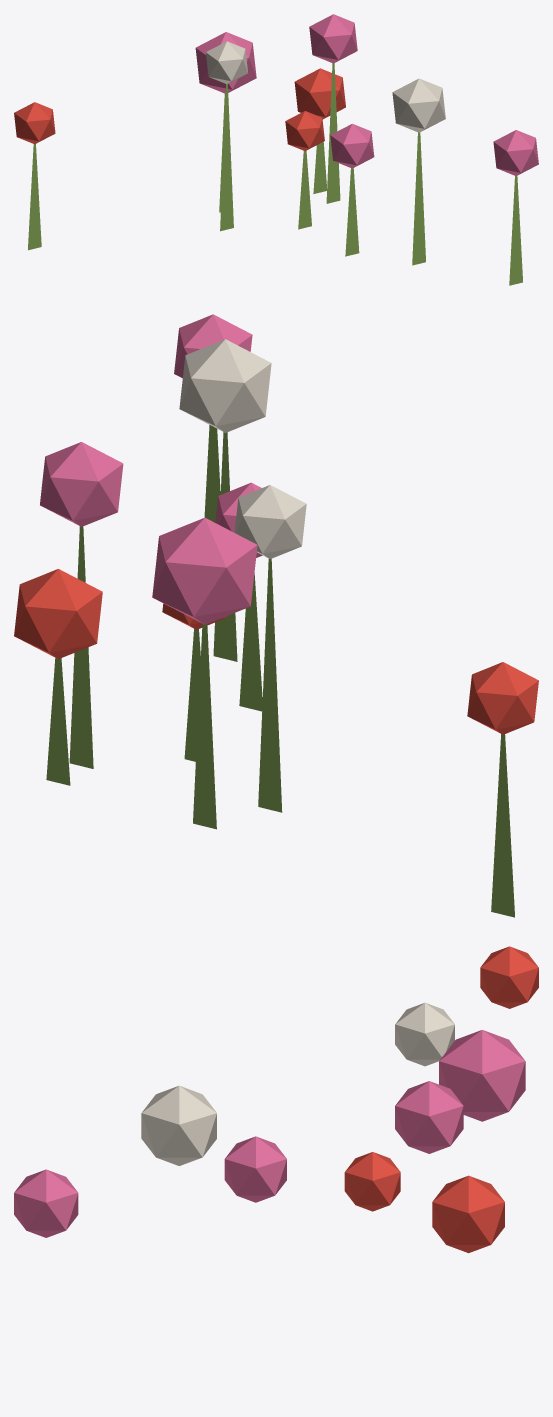
File: flowers.glb
3 renders of one model, top to bottom at view 1: azimuth 30°, elevation 25°; view 2: azimuth 150°, elevation 25°; view 3: azimuth 270°, elevation 25°, orthographic. The views are drawn at different scales.
Visible parts, largest first — view 1: flowers; view 2: flowers; view 3: flowers.
Boxes of the visible parts, x1=… form: flowers: x1=14, y1=14, x2=538, y2=285; flowers: x1=14, y1=314, x2=538, y2=917; flowers: x1=14, y1=946, x2=538, y2=1253.
Size of the model in its own units: 1.56 by 0.7749 by 1.32.
